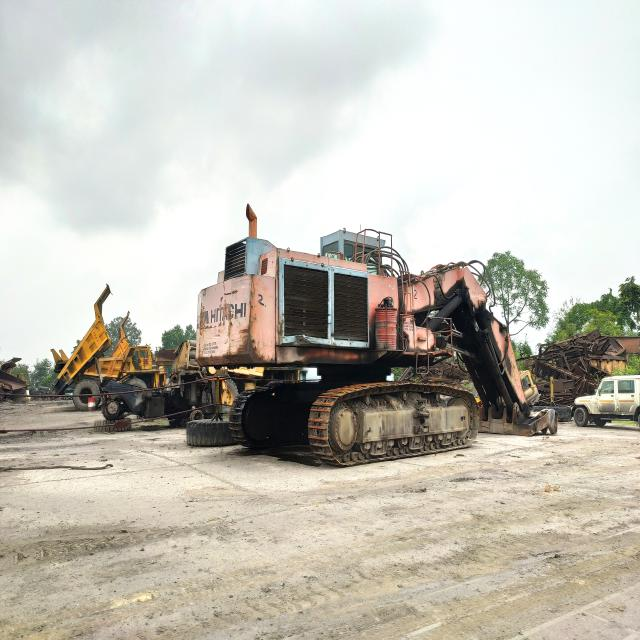excavator: (191, 209, 534, 465)
